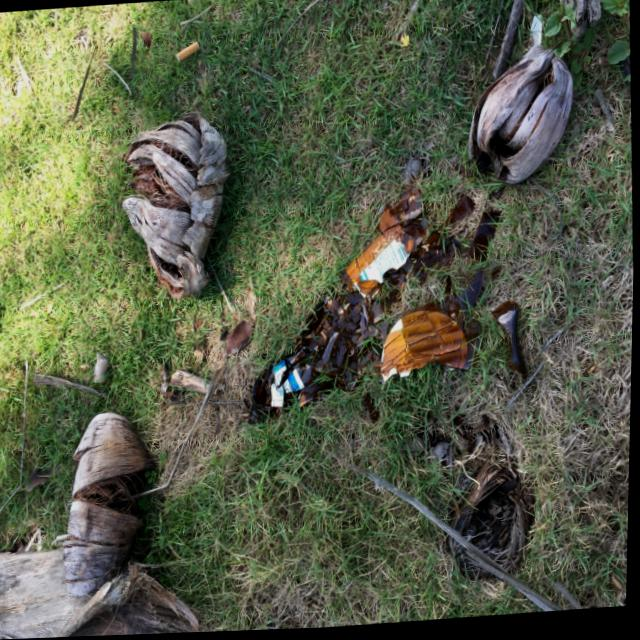Bottle-Glass: (242, 302, 361, 429), (340, 199, 424, 302), (378, 307, 474, 387), (488, 298, 540, 397), (450, 264, 490, 331), (435, 195, 477, 239), (361, 392, 384, 431)
